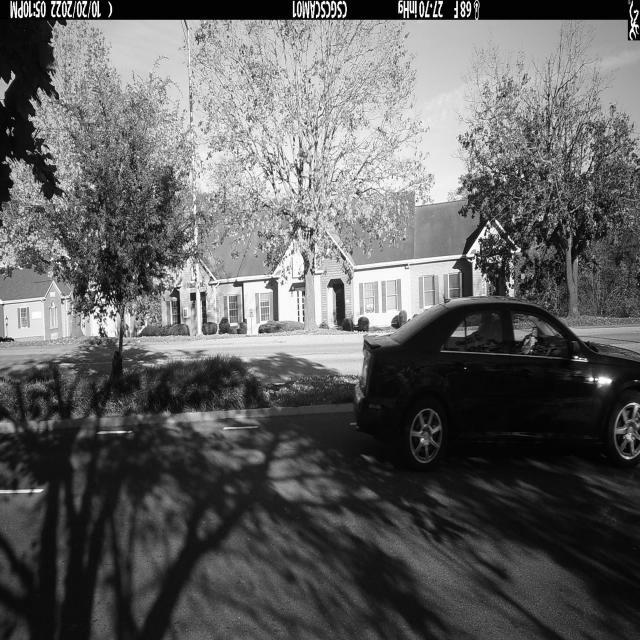Sedan: (354, 296, 640, 472)
